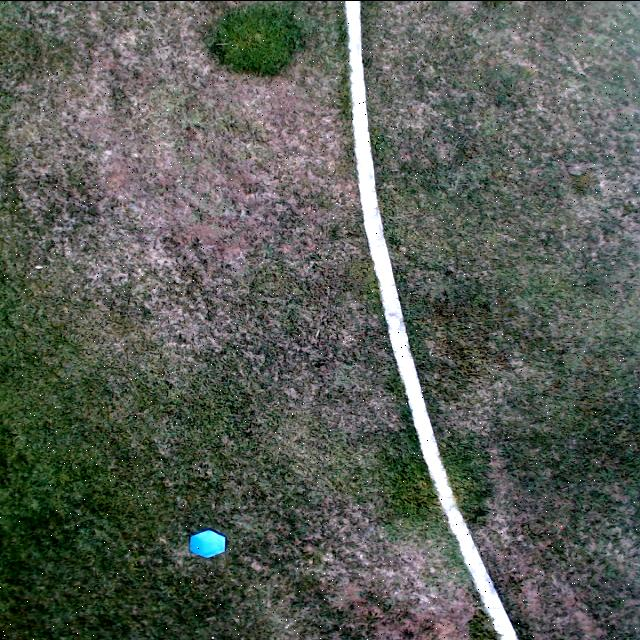blue_hexagon: (189, 528, 227, 558)
